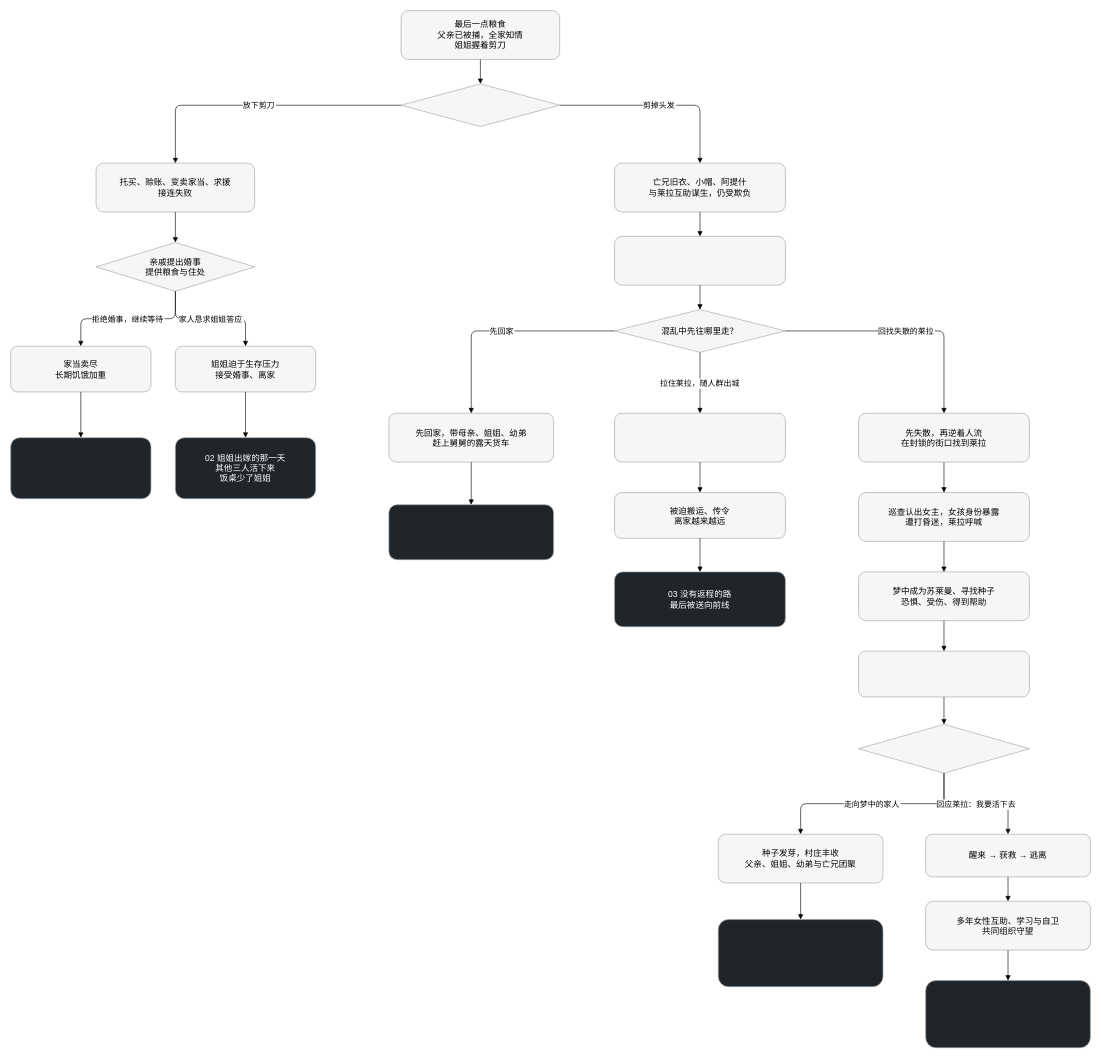
Some shapes in this 1101 by 1058 pixel diagram are drawn without their labels. Here are the shapes that lost their labels. From the top down, the centre of each, then its label:
[480,105]: 是否剪发？
[699,260]: 爆炸、军车与商铺关闭 两人即将被人流冲散
[699,437]: 拉住莱拉一同到城门 被当作男孩征用
[80,468]: 01 没有升起的炊烟 家中四人相继饿死 父亲不在
[471,532]: 04 离城的四个人 父亲仍被囚，莱拉去向不明
[943,674]: 面对象王 想起亡兄
[943,748]: 梦中家人叫她回家 现实莱拉叫她醒来
[800,953]: 05 没有醒来的春天 · 梦境 现实中始终没有醒来 现实家人去向未知
[1007,1014]: 06 守护之地 · 原创未来 成年女性护卫队长 现实家人去向未知
